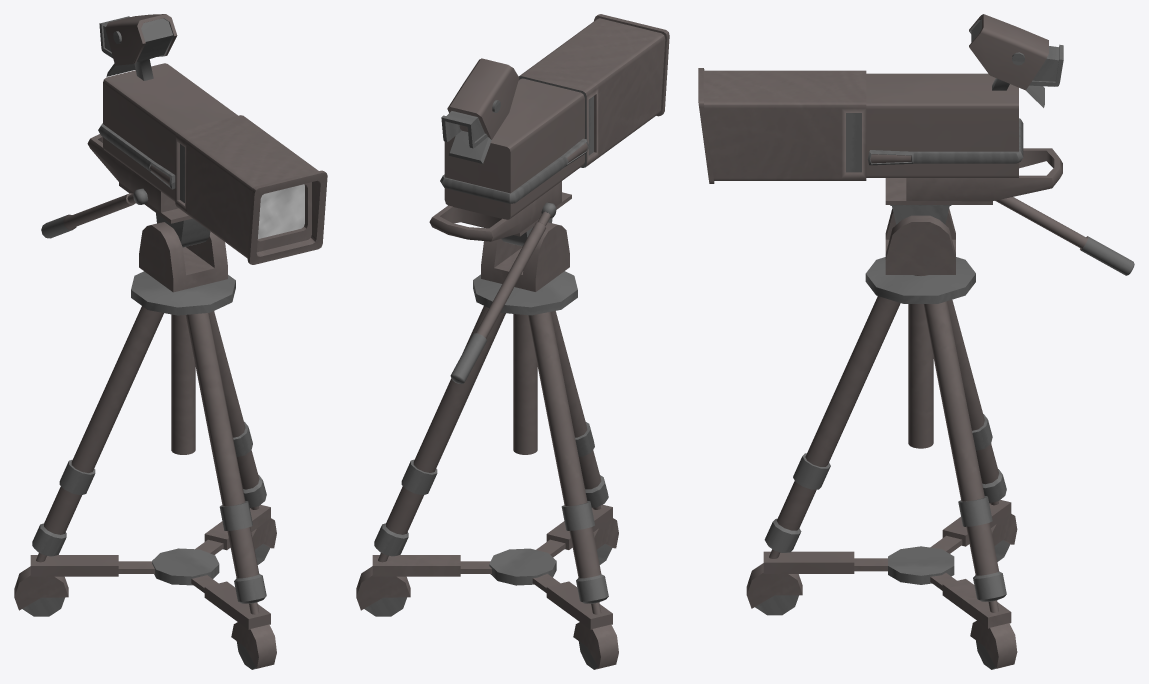
File: Camera.glb
The picture shows the model from 3 angles, left to right: view 1: azimuth 30°, elevation 25°; view 2: azimuth 150°, elevation 25°; view 3: azimuth 270°, elevation 25°; orthographic projection. The views are drawn at different scales.
Visible parts, largest first — view 1: Camera; view 2: Camera; view 3: Camera.
Boxes of the visible parts, x1,y1,x2,y2 form: Camera: (14, 14, 327, 669); Camera: (356, 14, 669, 669); Camera: (698, 14, 1134, 669).
Bounding box in the file's own units: 0.8958 × 1.87 × 1.25.
3 materials, 3 textured.
